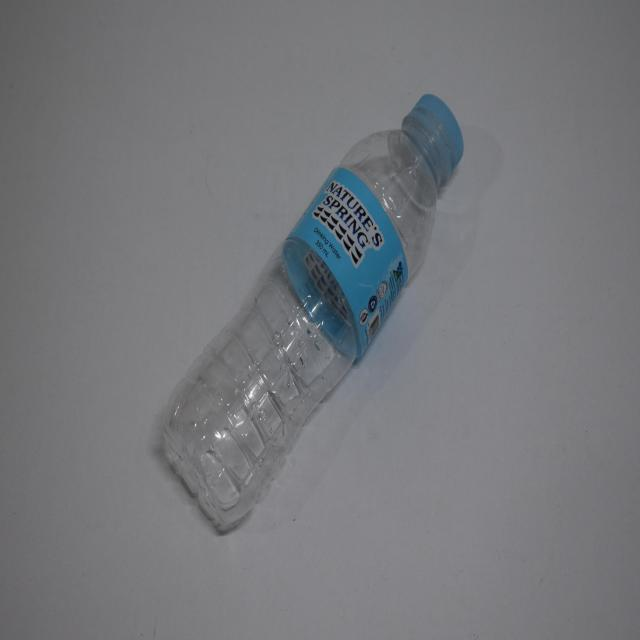empty: (165, 95, 464, 527)
